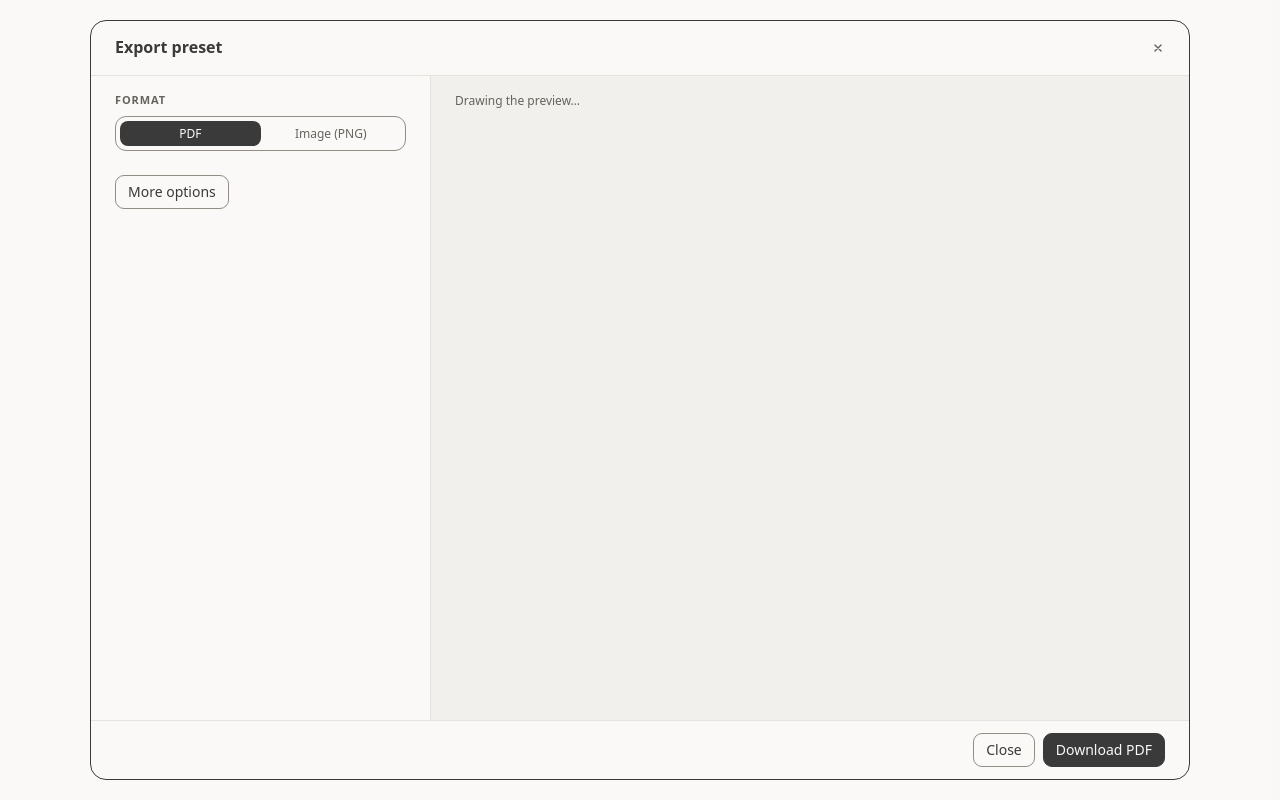
Test: ExportDialog › groups the export checkboxes under the heading that names them
Click the button "More options" at (172, 192), box [115, 175, 229, 209]
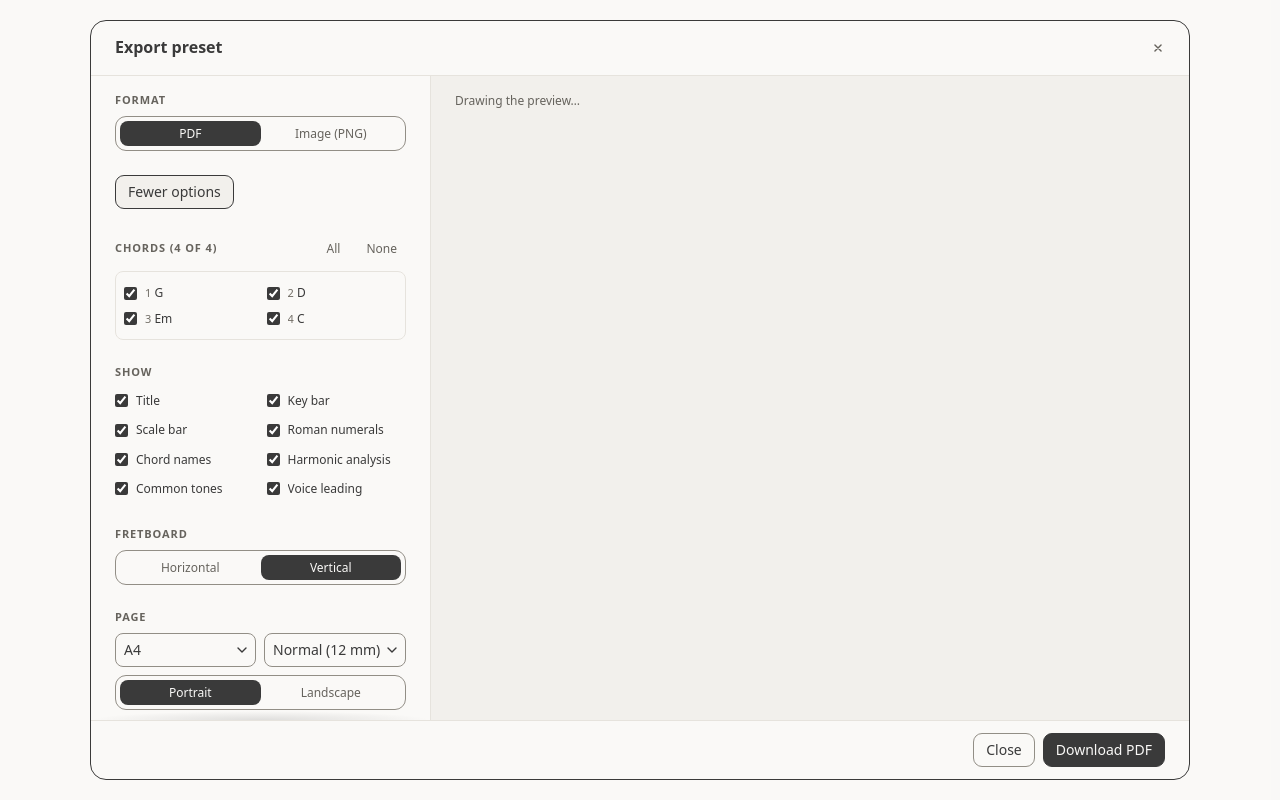
expect the element "Chords (4 of 4) All None 1 G 2 D 3 Em 4 C" is shown: met, box [115, 233, 406, 340]
expect the element "Show" is shown: met, box [115, 364, 406, 502]
